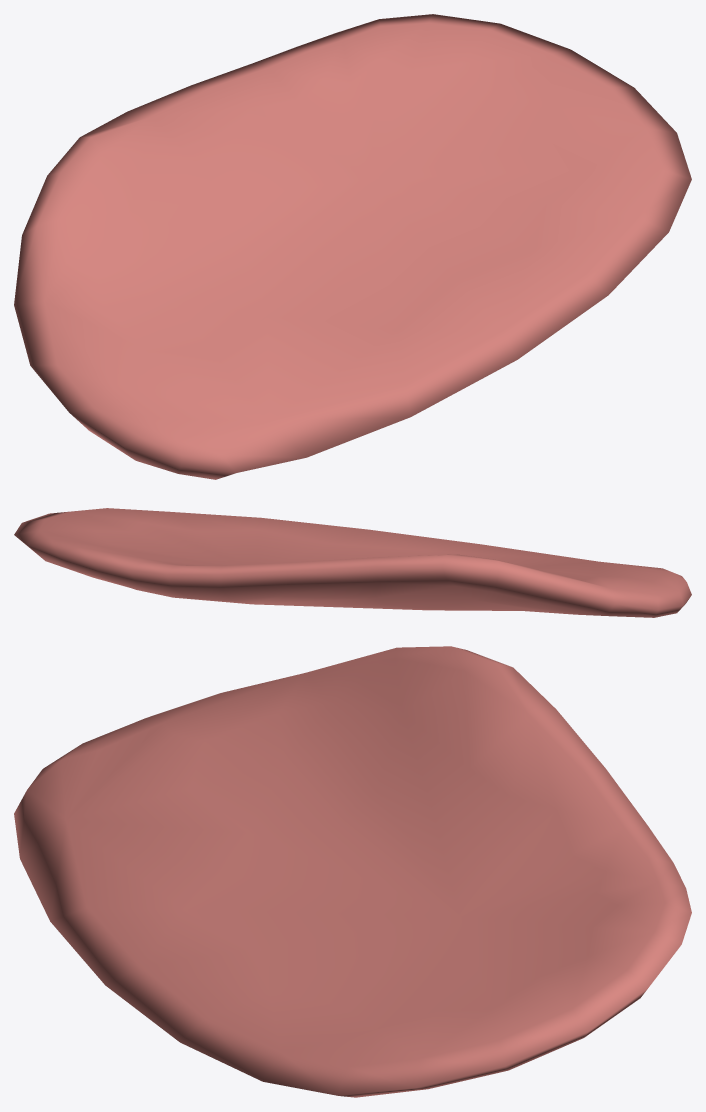
3 renders of one model, top to bottom at view 1: azimuth 30°, elevation 25°; view 2: azimuth 150°, elevation 25°; view 3: azimuth 270°, elevation 25°, orthographic. The views are drawn at different scales.
Visible parts, largest first — view 1: ZA_dae4bebefdf1169f; view 2: ZA_dae4bebefdf1169f; view 3: ZA_dae4bebefdf1169f.
Part boxes in pixels (x1,y1,x2,y2): ZA_dae4bebefdf1169f: (14, 14, 691, 479); ZA_dae4bebefdf1169f: (14, 508, 691, 617); ZA_dae4bebefdf1169f: (14, 646, 691, 1097).
Bounding box in the file's own units: 0.00925 × 0.00218 × 0.00664.
